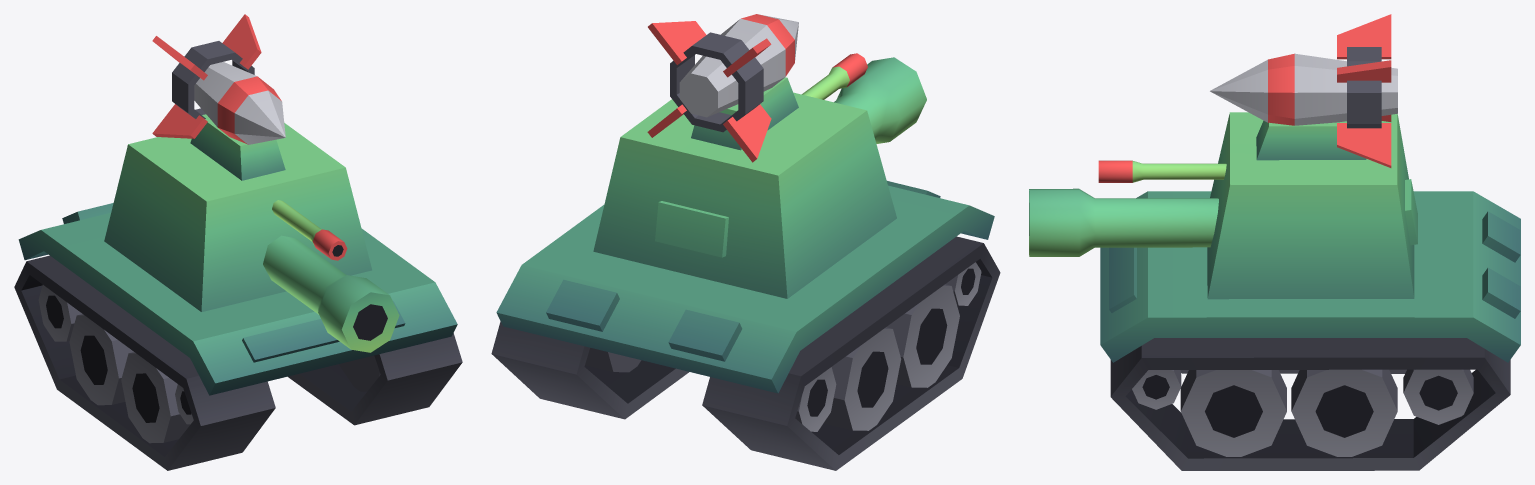
The model's file is Tank.fbx.
3 renders of one model, left to right at view 1: azimuth 30°, elevation 25°; view 2: azimuth 150°, elevation 25°; view 3: azimuth 270°, elevation 25°, orthographic. The views are drawn at different scales.
Visible parts, largest first — view 1: Tank_base, Tank_tower, Rocket; view 2: Tank_base, Tank_tower, Rocket; view 3: Tank_base, Tank_tower, Rocket.
Part boxes in pixels (bbox=[...]): Tank_base: bbox=[14, 203, 462, 470]; Tank_tower: bbox=[104, 114, 399, 352]; Rocket: bbox=[152, 14, 285, 144]; Tank_base: bbox=[491, 181, 1000, 470]; Tank_tower: bbox=[593, 53, 926, 298]; Rocket: bbox=[647, 14, 798, 162]; Tank_base: bbox=[1100, 191, 1520, 470]; Tank_tower: bbox=[1029, 112, 1417, 299]; Rocket: bbox=[1210, 14, 1397, 167].
Size of what is drawn, in the model's own units: 312 by 390 by 476.
